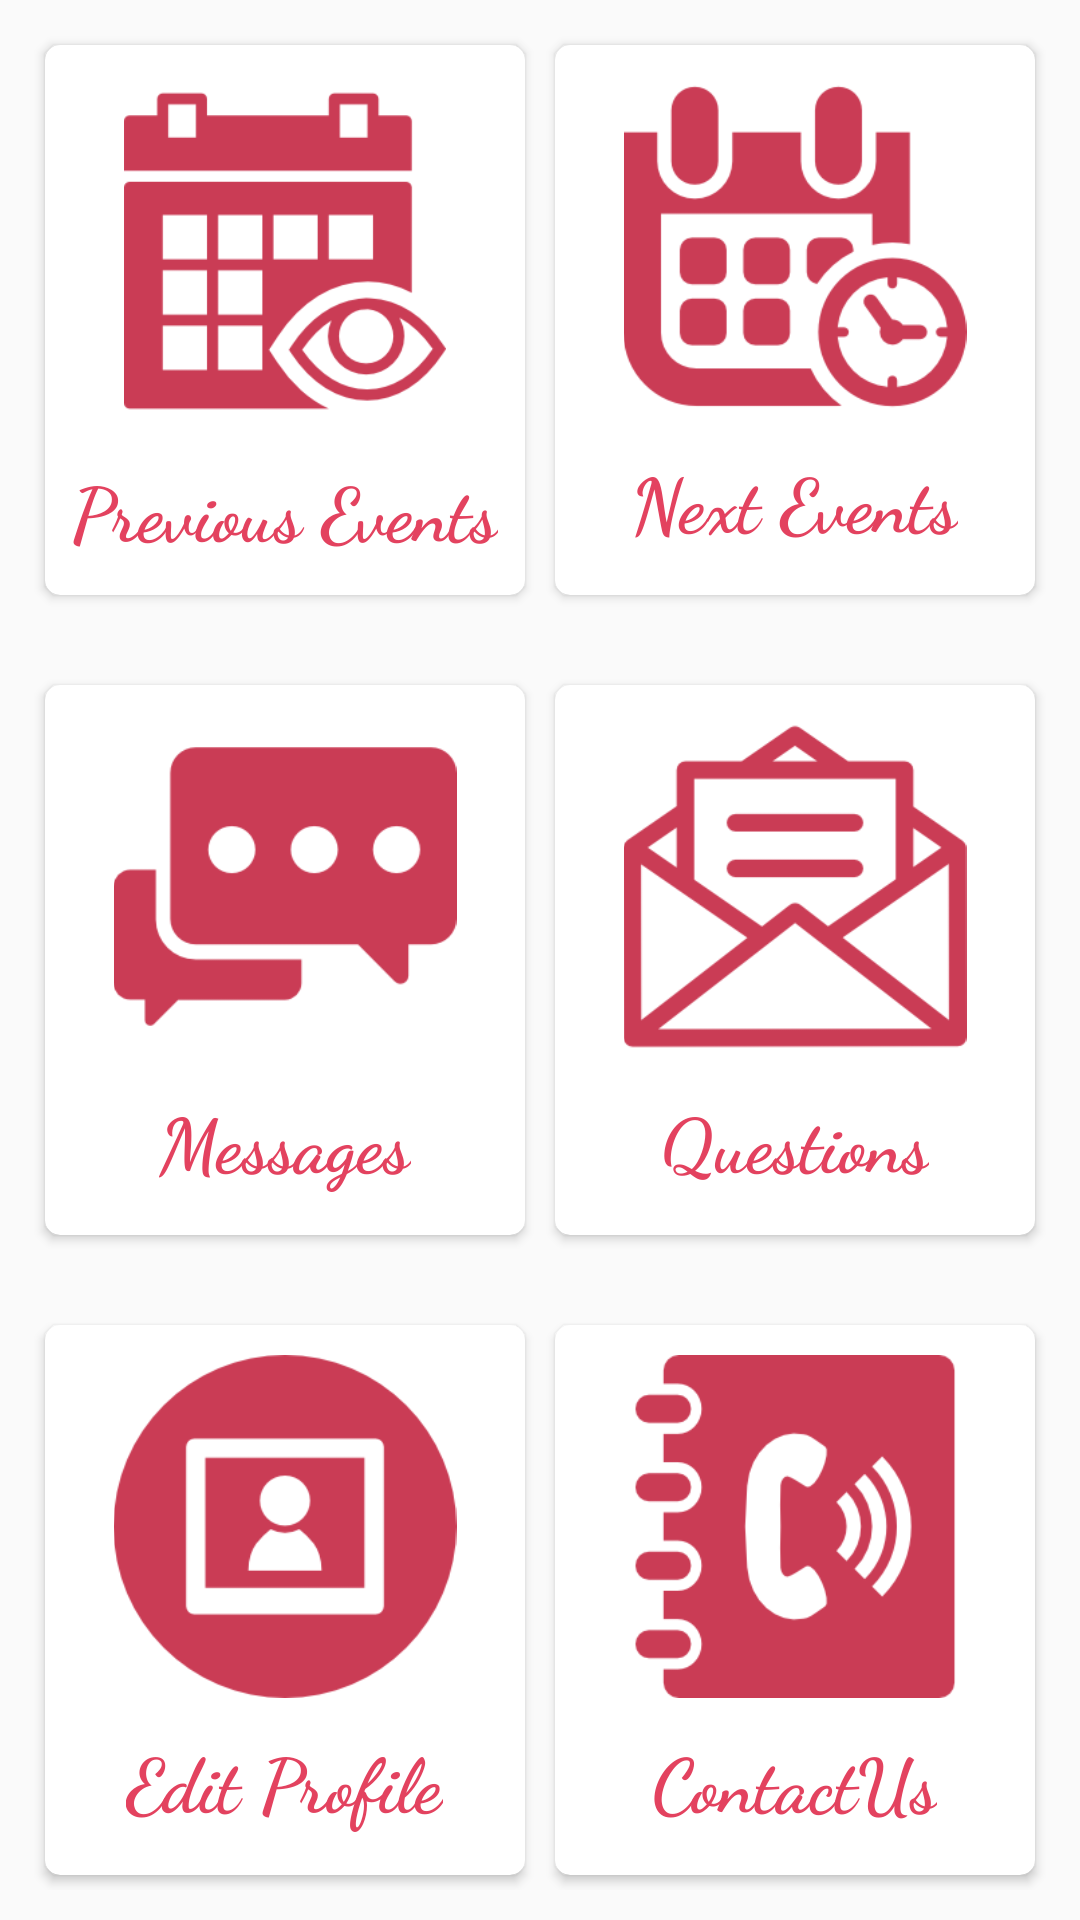

Icons on this 1080×1920 Android screen, each with its box as (x1, y1, x2, y2):
user: (114, 1355, 457, 1698)
view events: (124, 92, 446, 410)
